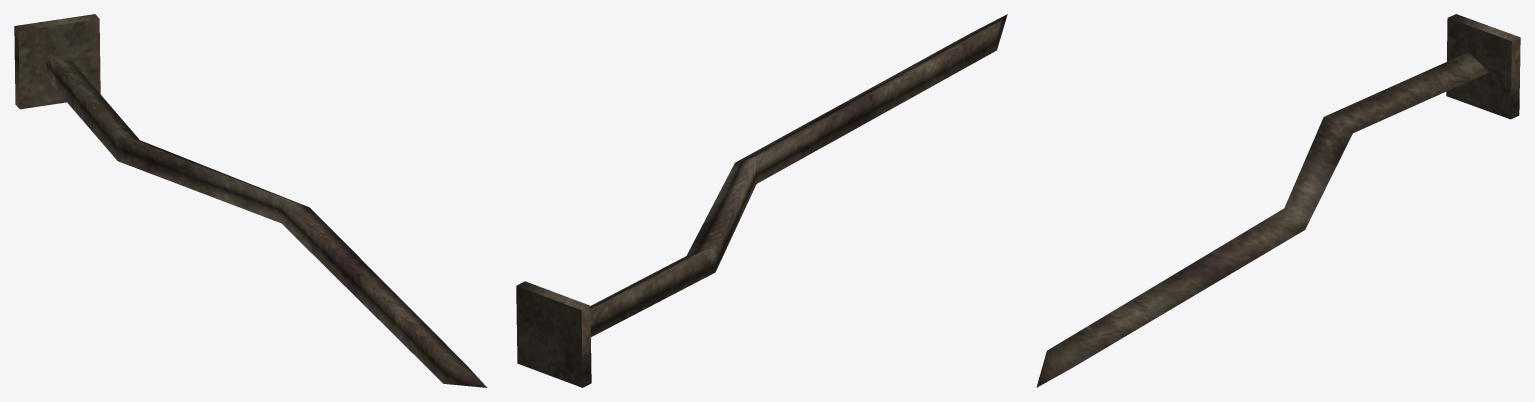
The model's file is TI_Nail_04.fbx.
3 renders of one model, left to right at view 1: azimuth 30°, elevation 25°; view 2: azimuth 150°, elevation 25°; view 3: azimuth 330°, elevation 25°, orthographic.
Visible parts, largest first — view 1: TI_Nail_04; view 2: TI_Nail_04; view 3: TI_Nail_04.
Part boxes in pixels (box(x1,y1,x2,y2)): TI_Nail_04: box(14, 14, 487, 387); TI_Nail_04: box(516, 14, 1007, 387); TI_Nail_04: box(1036, 14, 1520, 387).
Bounding box in the file's own units: 0.0585 × 0.0501 × 0.5187.
